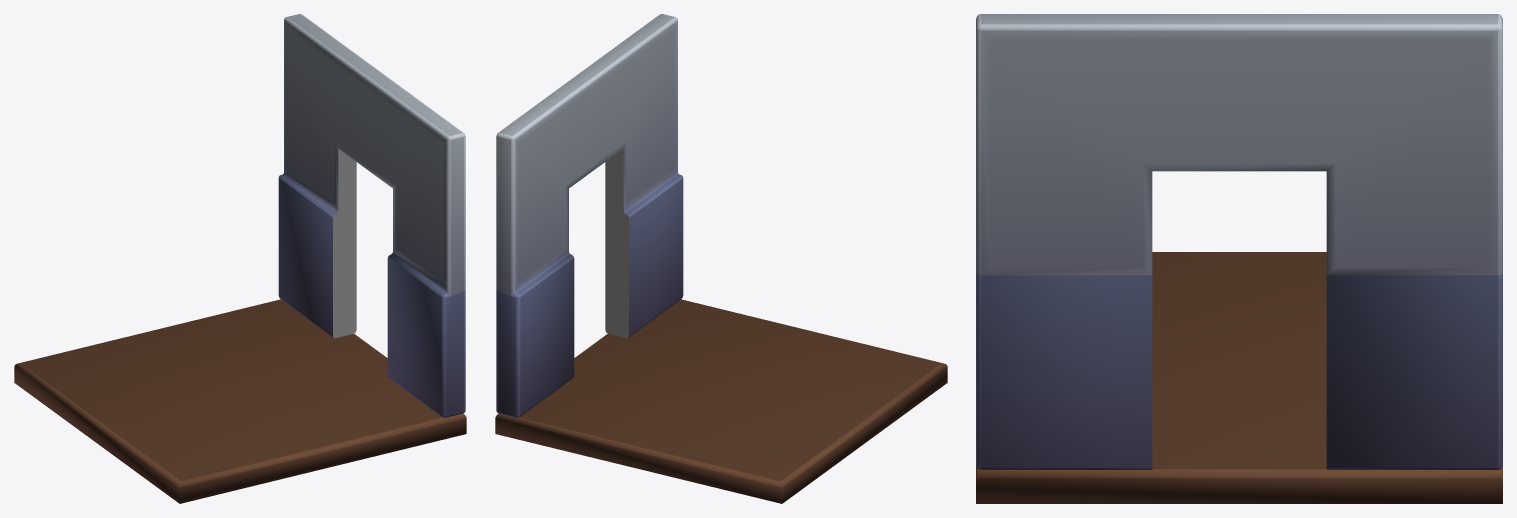
The model's file is wall-door.fbx.
The picture shows the model from 3 angles, left to right: view 1: azimuth 30°, elevation 25°; view 2: azimuth 150°, elevation 25°; view 3: azimuth 270°, elevation 25°; orthographic projection. The views are drawn at different scales.
Parts seen in each view (by area): view 1: wall-door; view 2: wall-door; view 3: wall-door.
Boxes of the visible parts, left/top/right/bottom form: wall-door: left=14, top=14, right=466, bottom=503; wall-door: left=495, top=14, right=947, bottom=503; wall-door: left=976, top=14, right=1502, bottom=503.
Size of the model in its own units: 1000 by 1001 by 1000.
